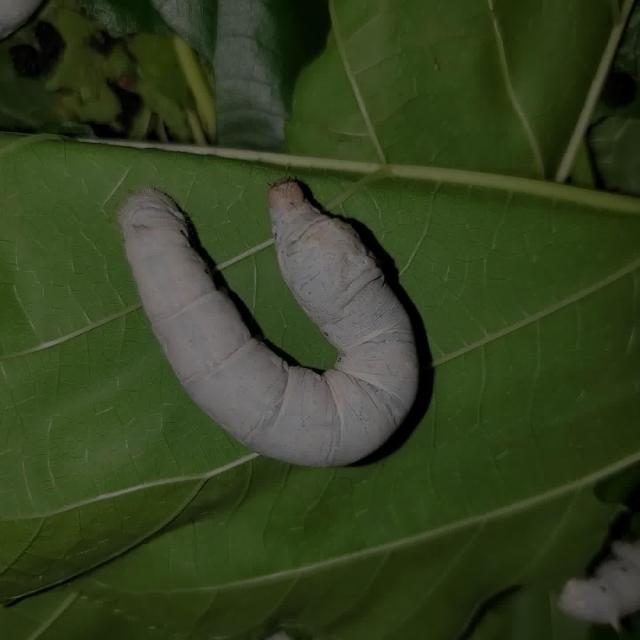Healthy: (107, 164, 431, 476)
